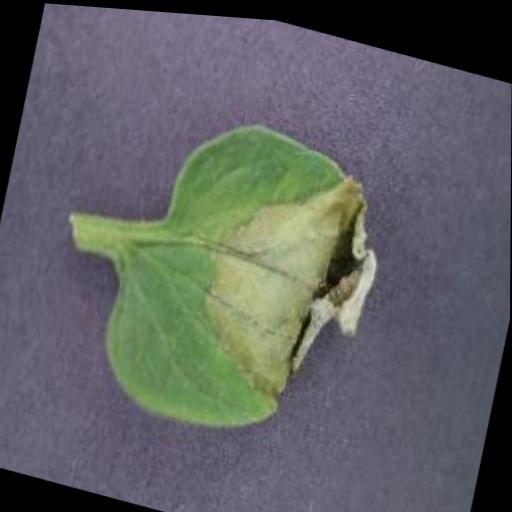Late Blight: (79, 76, 410, 470)
